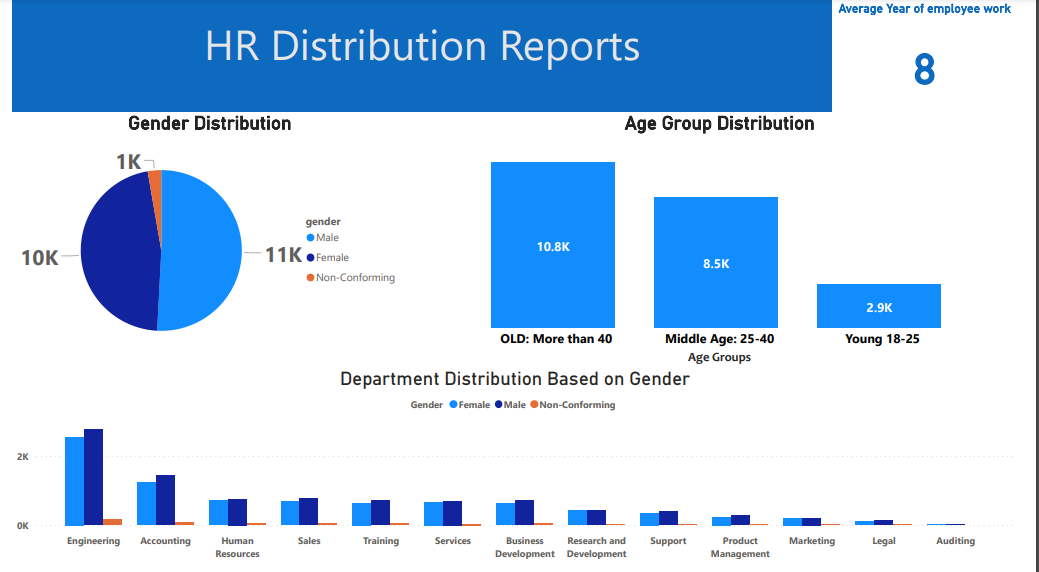

Layout of this report page (visuals, bound fields, positions):
{"tool":"powerbi","page":{"name":"Page 1","canvas":[1280,720],"ordinal":0},"visuals":[{"type":"card","title":"Average Year of employee work","fields":{"Values":["Sum(average_employment.average_year)"]},"box":[1042.7,0,236.7,142.3],"z":0},{"type":"textbox","box":[0,0,1042.7,142.3],"z":1000},{"type":"pieChart","title":"Gender Distribution","fields":{"Category":["gender.gender"],"Y":["Sum(gender.COUNT(gender))"]},"box":[0,142.3,501.6,325.5],"z":2000},{"type":"columnChart","title":"Age Group Distribution","fields":{"Category":["age_group.age_group"],"Y":["Sum(age_group.COUNT(*))"]},"box":[521.3,142.3,758,325.5],"z":3000},{"type":"clusteredColumnChart","title":"Department Distribution Based on Gender","fields":{"Y":["Sum(gender_department.count)"],"Category":["gender_department.department"],"Series":["gender_department.gender"]},"box":[0,467.8,1279.4,252.2],"z":4000}]}

Visuals, with their boxes in screenshot pixels (x1, y1, x2, y2), scaled from the page's 1280x720 canvas onto the 1039x572 screenshot:
"Average Year of employee work" card: <box>846,0,1038,113</box>
textbox: <box>0,0,846,113</box>
"Gender Distribution" pieChart: <box>0,113,407,372</box>
"Age Group Distribution" columnChart: <box>423,113,1038,372</box>
"Department Distribution Based on Gender" clusteredColumnChart: <box>0,372,1038,571</box>
